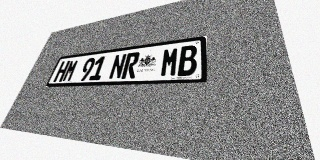1: (89, 56, 107, 80)
9: (78, 57, 96, 81)
B: (177, 45, 197, 76)
H: (53, 60, 70, 82)
M: (160, 47, 179, 77), (61, 59, 79, 82)
N: (108, 53, 127, 79)
R: (121, 52, 140, 79)
